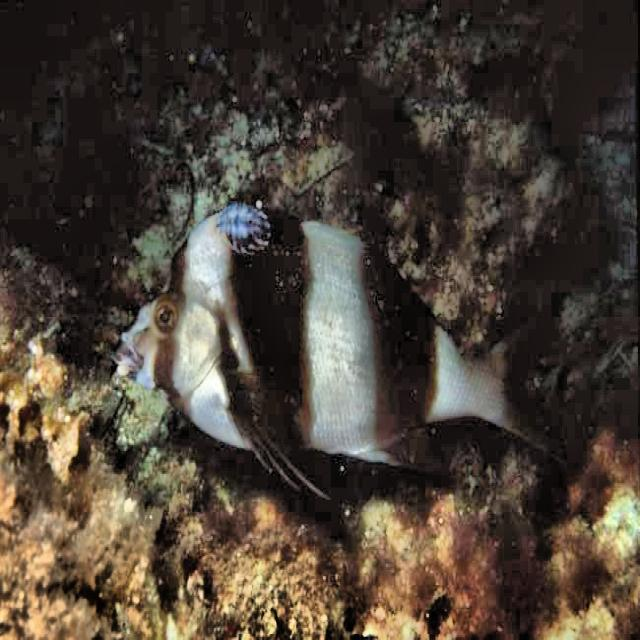fish: (115, 197, 559, 503)
